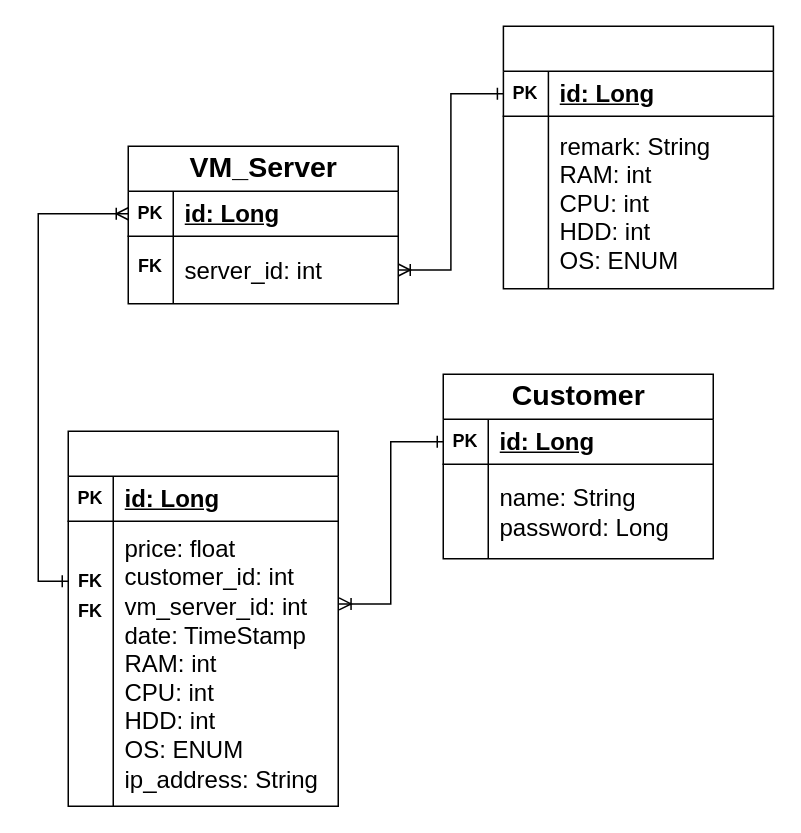
Image size: 801x833. Some labels were removed from this diagram. The shapes that lost their labels are listed below. From the top down, each one's box as (x1, y1, x2, y2) in pixels, then its label:
(502, 25, 773, 289): Server
(67, 430, 338, 806): Order
